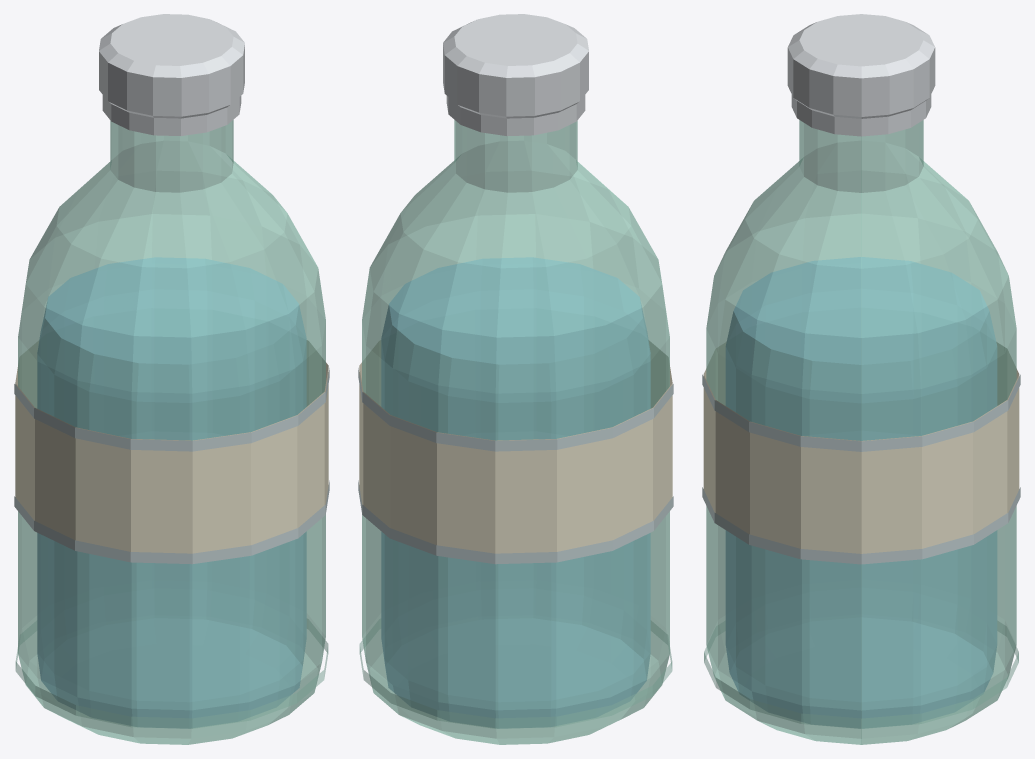
File: 09_glass_water_bottle_green_330ml.glb
3 renders of one model, left to right at view 1: azimuth 30°, elevation 25°; view 2: azimuth 150°, elevation 25°; view 3: azimuth 270°, elevation 25°, orthographic.
Parts seen in each view (by area): view 1: metal_cap, water_fill, raised_base_ring; view 2: metal_cap, water_fill, raised_base_ring; view 3: metal_cap, water_fill, raised_base_ring.
Boxes of the visible parts, x1,y1,x2,y2 form: metal_cap: (18,14,325,744); water_fill: (37,257,306,727); raised_base_ring: (14,340,329,728); metal_cap: (362,14,669,744); water_fill: (381,257,650,727); raised_base_ring: (358,340,673,728); metal_cap: (706,14,1016,744); water_fill: (726,257,996,727); raised_base_ring: (702,342,1020,728).
Bounding box in the file's own units: 0.082 × 0.186 × 0.082.
